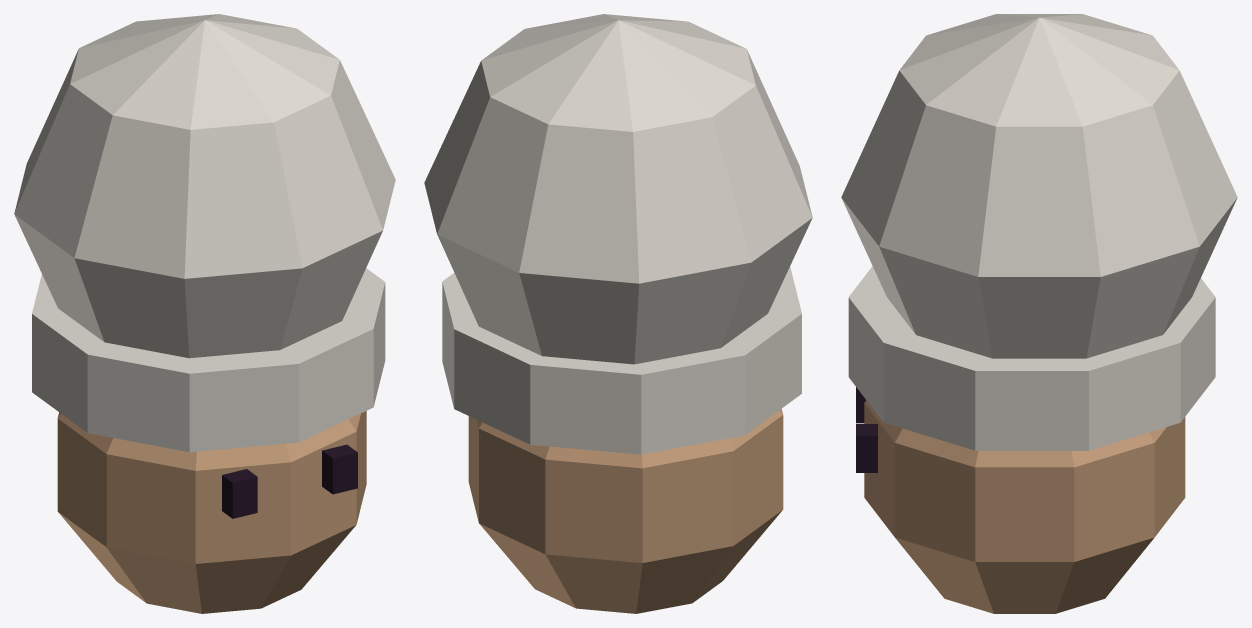
Rendered from head_ines.gltf.
The picture shows the model from 3 angles, left to right: view 1: azimuth 30°, elevation 25°; view 2: azimuth 150°, elevation 25°; view 3: azimuth 270°, elevation 25°; orthographic projection.
Parts seen in each view (by area): view 1: puff, skin, band, eyes; view 2: puff, skin, band; view 3: puff, skin, band, eyes.
Boxes of the visible parts, bbox=[...] form: puff: bbox=[14, 14, 395, 358]; skin: bbox=[57, 411, 366, 613]; band: bbox=[32, 268, 385, 452]; eyes: bbox=[222, 444, 357, 518]; puff: bbox=[424, 14, 812, 364]; skin: bbox=[468, 409, 783, 613]; band: bbox=[442, 266, 801, 454]; puff: bbox=[841, 14, 1237, 358]; skin: bbox=[864, 400, 1185, 613]; band: bbox=[848, 266, 1215, 450]; eyes: bbox=[856, 387, 877, 472].
Bounding box in the file's own units: 0.5136 × 0.88 × 0.54.
